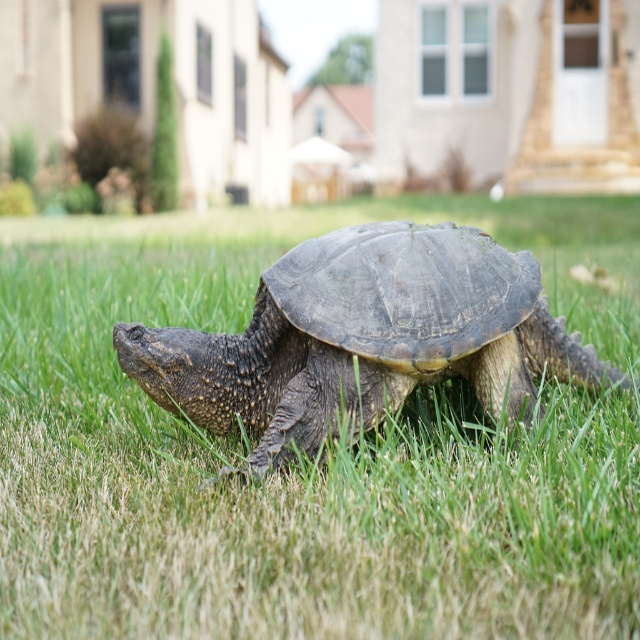Sea turtle: (112, 220, 640, 501)
